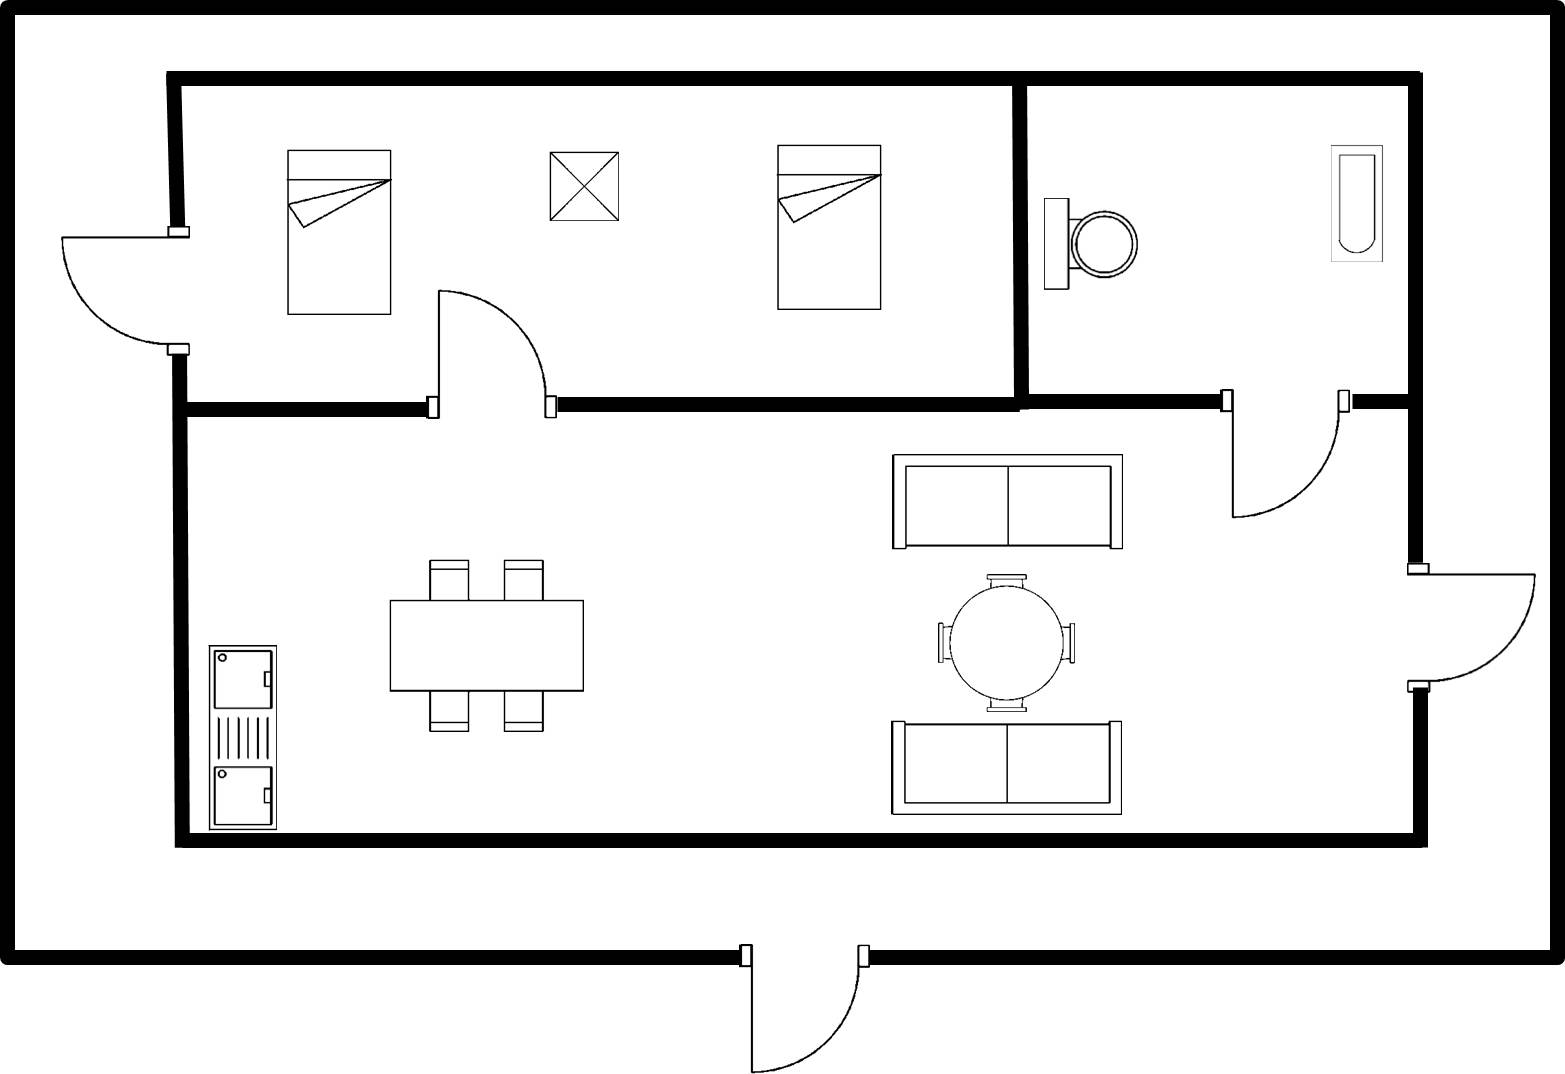bed: (276, 140, 400, 325), (771, 136, 889, 316)
coffee_table: (545, 144, 626, 233)
dining_table: (383, 550, 593, 744)
large_sink: (1037, 192, 1144, 302)
large_sofa: (885, 446, 1129, 560), (878, 716, 1128, 822)
round_table: (925, 569, 1086, 713)
tub: (1324, 136, 1389, 273)
twin_sink: (201, 640, 287, 837)
